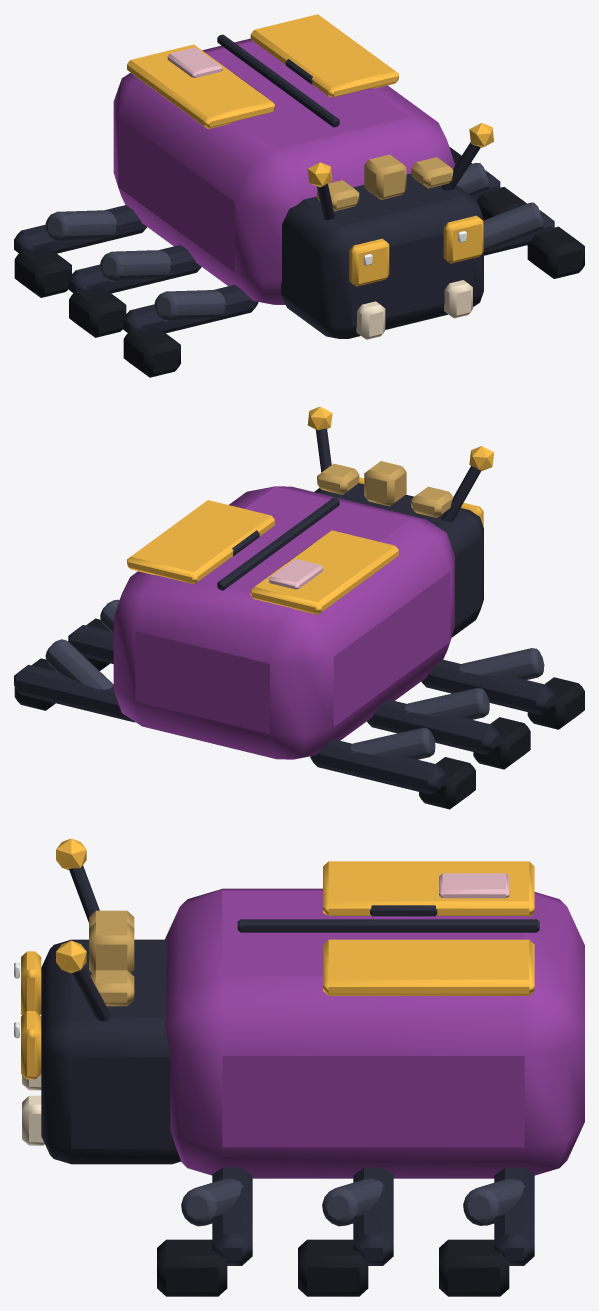
File: boss.glb
3 views of the same model, one above another, from view 1: azimuth 30°, elevation 25°; view 2: azimuth 150°, elevation 25°; view 3: azimuth 270°, elevation 25° (orthographic). The views are drawn at different scales.
Visible parts, largest first — view 1: Batch_Body_CITY / #9945a7, Batch_Body_CITY / charcoal.021, Batch_Body_CITY / #ffbf42, Batch_Legs_CITY / rubber.021, Batch_Legs_CITY / #414558.001, Batch_Legs_CITY / charcoal.021, Batch_Body_CITY / gold.021, Batch_Eyes_CITY / #ffbf42, Batch_Body_CITY / cream.021, Batch_Body_CITY / #edbdcb; view 2: Batch_Body_CITY / #9945a7, Batch_Legs_CITY / charcoal.021, Batch_Body_CITY / #ffbf42, Batch_Body_CITY / charcoal.021, Batch_Legs_CITY / #414558.001, Batch_Legs_CITY / rubber.021, Batch_Body_CITY / gold.021, Batch_Body_CITY / #edbdcb; view 3: Batch_Body_CITY / #9945a7, Batch_Body_CITY / charcoal.021, Batch_Body_CITY / #ffbf42, Batch_Legs_CITY / rubber.021, Batch_Legs_CITY / charcoal.021, Batch_Legs_CITY / #414558.001, Batch_Body_CITY / gold.021, Batch_Eyes_CITY / #ffbf42, Batch_Body_CITY / #edbdcb, Batch_Body_CITY / cream.021.
Part boxes in pixels (x1=…): Batch_Body_CITY / #9945a7: x1=113, y1=38, x2=454, y2=304; Batch_Body_CITY / charcoal.021: x1=217, y1=34, x2=483, y2=338; Batch_Body_CITY / #ffbf42: x1=127, y1=14, x2=494, y2=187; Batch_Legs_CITY / rubber.021: x1=14, y1=147, x2=584, y2=377; Batch_Legs_CITY / #414558.001: x1=45, y1=163, x2=544, y2=321; Batch_Legs_CITY / charcoal.021: x1=14, y1=170, x2=554, y2=333; Batch_Body_CITY / gold.021: x1=317, y1=154, x2=453, y2=211; Batch_Eyes_CITY / #ffbf42: x1=349, y1=215, x2=483, y2=286; Batch_Body_CITY / cream.021: x1=356, y1=280, x2=472, y2=339; Batch_Body_CITY / #edbdcb: x1=167, y1=47, x2=222, y2=77; Batch_Body_CITY / #9945a7: x1=113, y1=486, x2=454, y2=759; Batch_Legs_CITY / charcoal.021: x1=14, y1=625, x2=554, y2=794; Batch_Body_CITY / #ffbf42: x1=127, y1=406, x2=494, y2=614; Batch_Body_CITY / charcoal.021: x1=217, y1=428, x2=483, y2=637; Batch_Legs_CITY / #414558.001: x1=45, y1=599, x2=544, y2=759; Batch_Legs_CITY / rubber.021: x1=14, y1=618, x2=584, y2=809; Batch_Body_CITY / gold.021: x1=317, y1=461, x2=453, y2=517; Batch_Body_CITY / #edbdcb: x1=268, y1=558, x2=323, y2=589; Batch_Body_CITY / #9945a7: x1=164, y1=888, x2=584, y2=1178; Batch_Body_CITY / charcoal.021: x1=41, y1=865, x2=539, y2=1164; Batch_Body_CITY / #ffbf42: x1=56, y1=838, x2=534, y2=995; Batch_Legs_CITY / rubber.021: x1=157, y1=1239, x2=509, y2=1296; Batch_Legs_CITY / charcoal.021: x1=212, y1=1167, x2=534, y2=1265; Batch_Legs_CITY / #414558.001: x1=181, y1=1178, x2=526, y2=1226; Batch_Body_CITY / gold.021: x1=89, y1=910, x2=134, y2=1006; Batch_Eyes_CITY / #ffbf42: x1=21, y1=951, x2=41, y2=1079; Batch_Body_CITY / #edbdcb: x1=439, y1=873, x2=509, y2=898; Batch_Body_CITY / cream.021: x1=22, y1=1074, x2=44, y2=1145.
Bounding box in the file's own units: 3.93 × 1.79 × 3.4.
